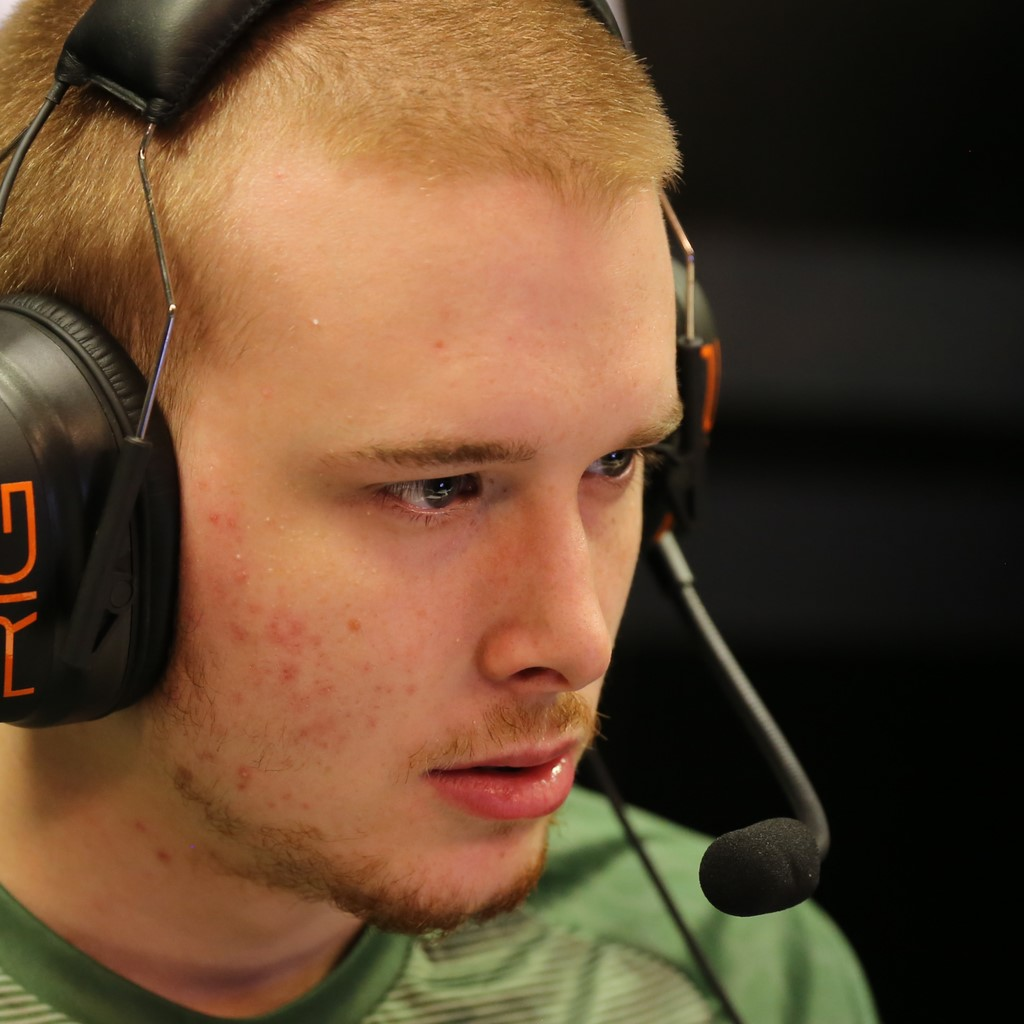sin_mascara: (55, 28, 671, 959)
